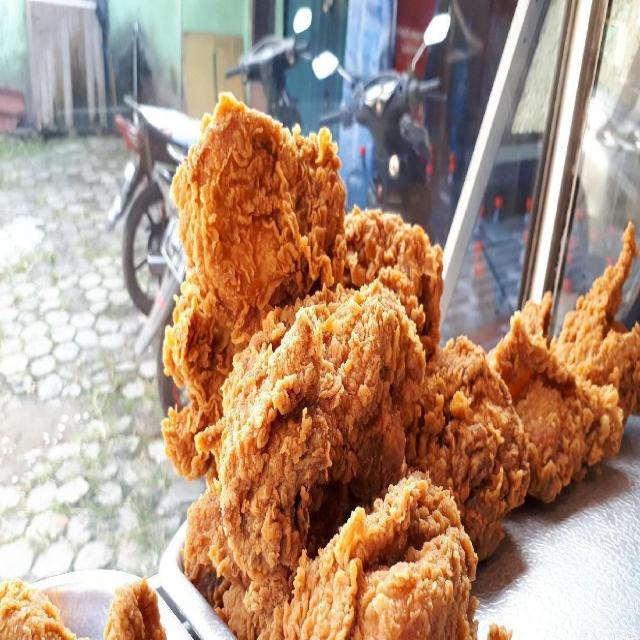Chicken -Fried Chicken-: (220, 284, 428, 584), (170, 83, 347, 337), (294, 469, 479, 640)
